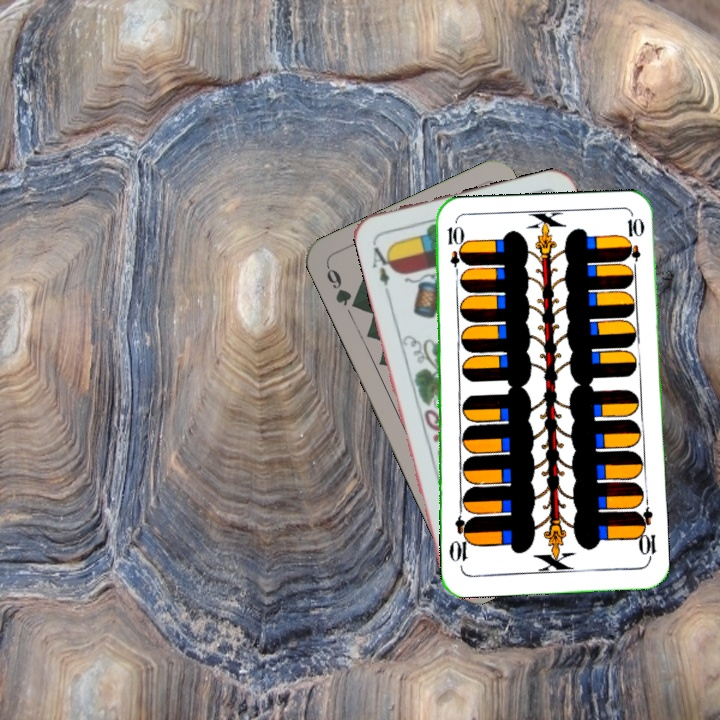E10: (632, 504, 658, 564), (444, 222, 464, 281)
EA: (368, 238, 398, 288)
G9: (322, 262, 363, 313)
